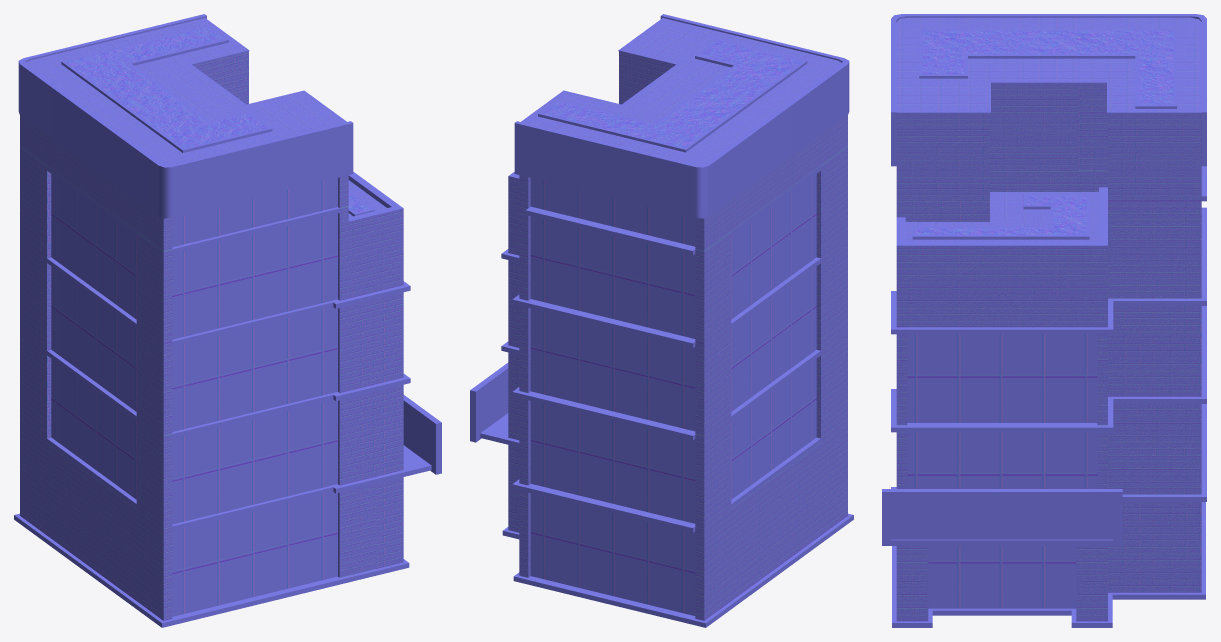
File: store_001_M.FBX
3 renders of one model, left to right at view 1: azimuth 30°, elevation 25°; view 2: azimuth 150°, elevation 25°; view 3: azimuth 270°, elevation 25°, orthographic. The views are drawn at different scales.
Parts seen in each view (by area): view 1: store_001_M; view 2: store_001_M; view 3: store_001_M.
Boxes of the visible parts, x1,y1,x2,y2 form: store_001_M: (14,14,441,627); store_001_M: (470,14,853,627); store_001_M: (882,14,1206,627).
Bounding box in the file's own units: 9.4 × 14.93 × 9.02.
1 material, 1 textured.
